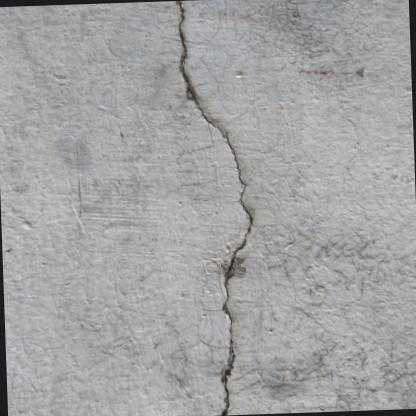crack: (220, 129, 252, 416), (177, 1, 224, 137)
